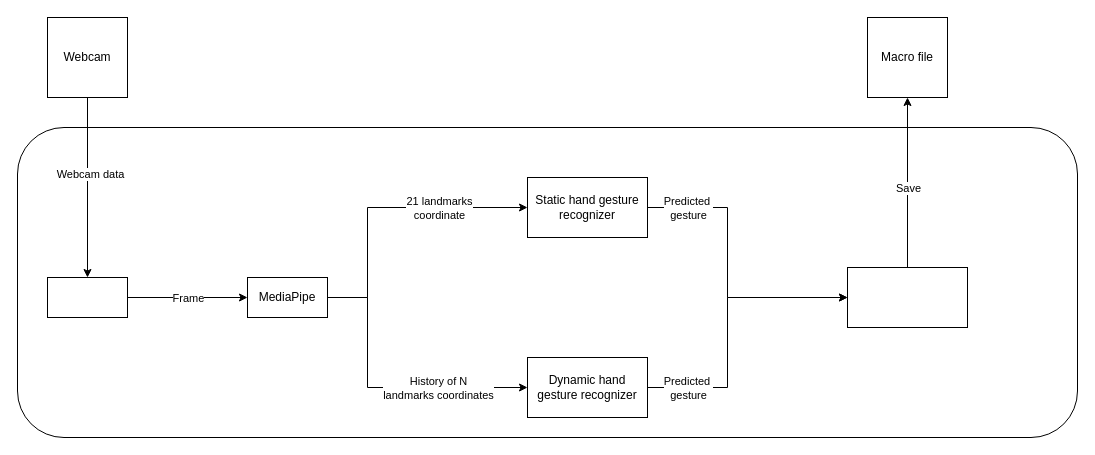
Some shapes in this 1095 by 455 pixel diagram are drawn without their labels. Each missing label, with the centre of its shape:
"Hand gesture controller" belongs at (907,297).
"OpenCV" belongs at (87,297).
